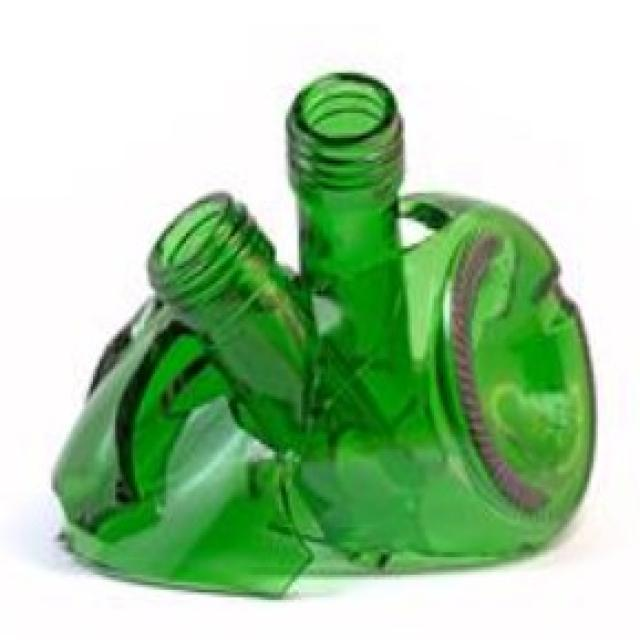electronic: (53, 71, 602, 605)
